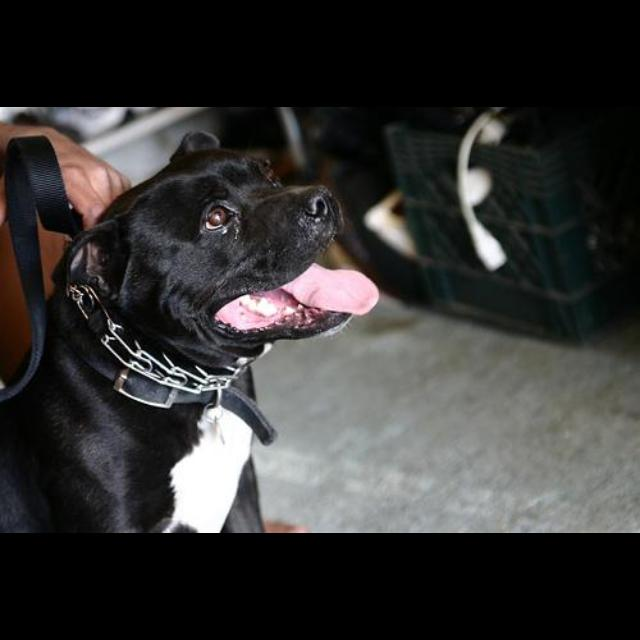amstaff: (1, 130, 379, 533)
